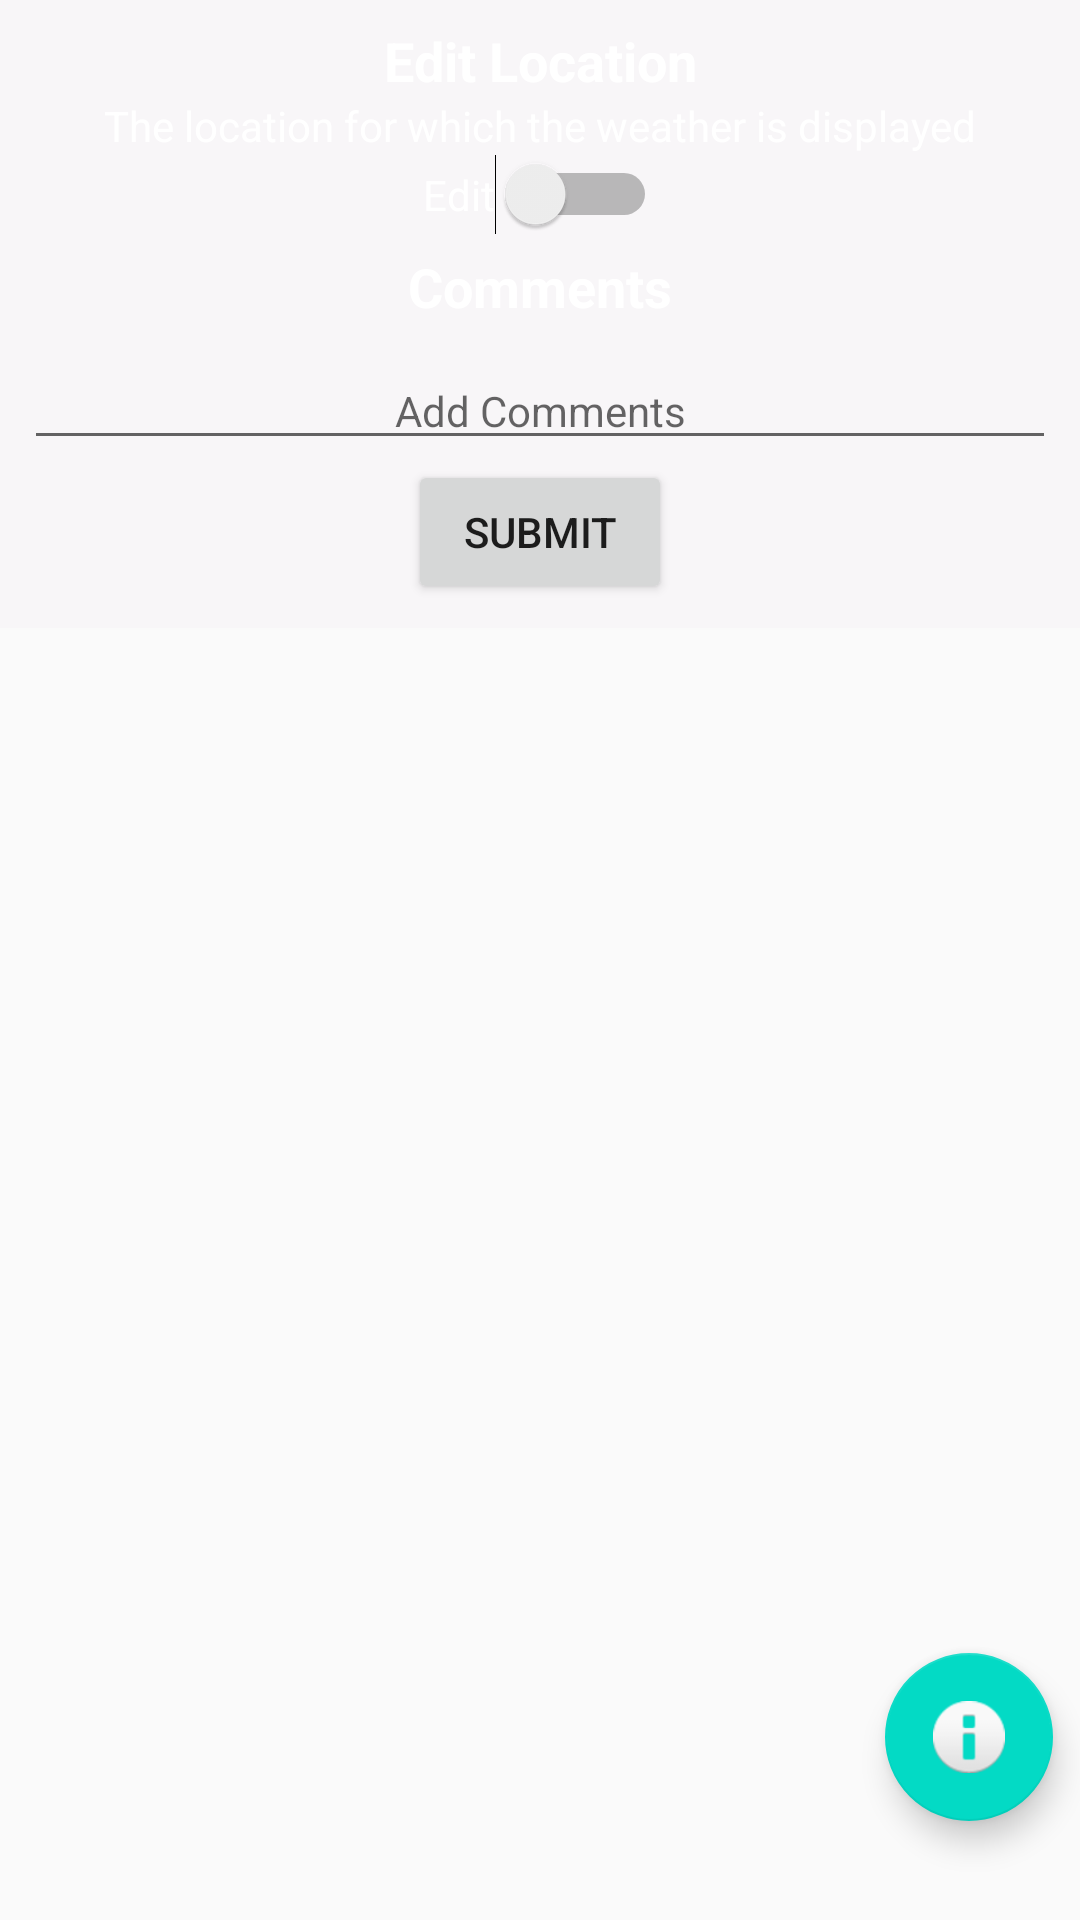

Screen size 1080×1920. Icon name, then its box in pixels as (x1, y1, x2, y2):
info: (885, 1653, 1053, 1821)
